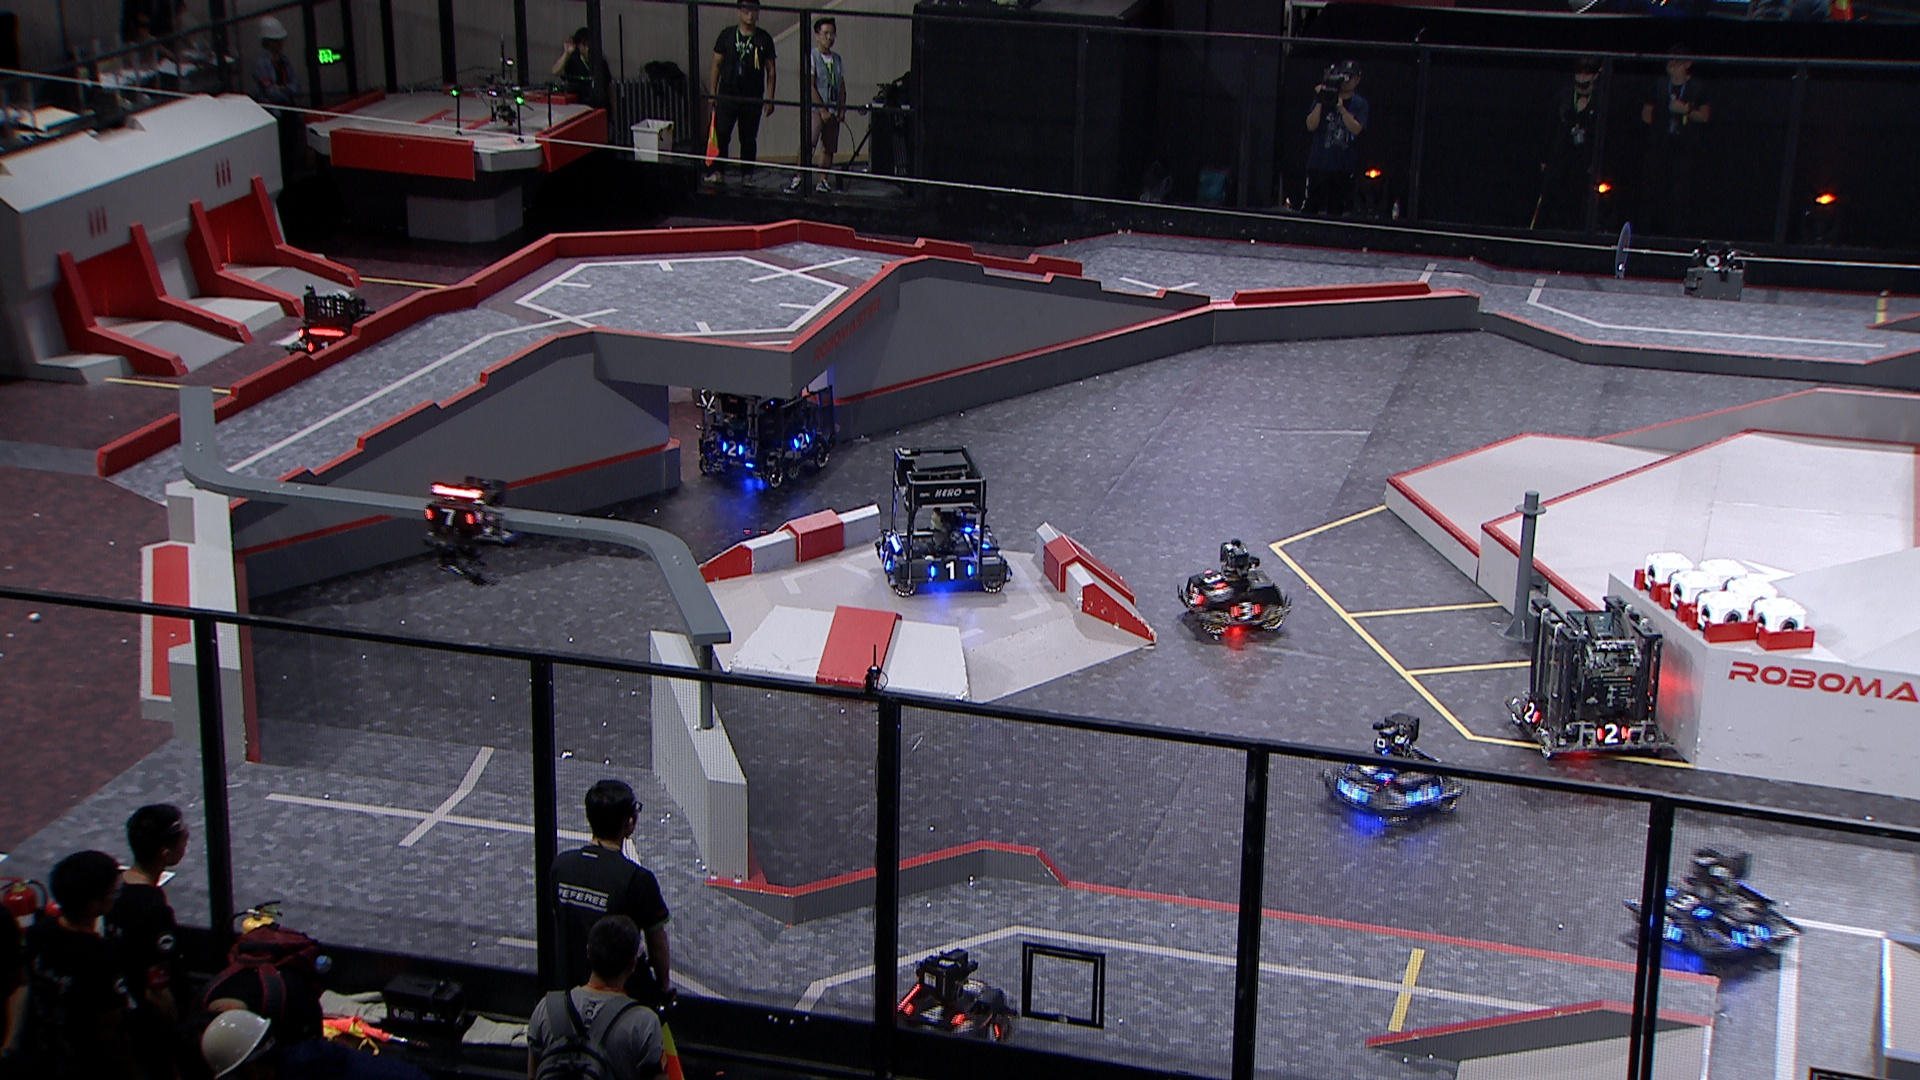armor: (902, 997, 961, 1026), (425, 505, 476, 527), (1408, 782, 1443, 808), (928, 560, 973, 579), (1352, 757, 1390, 778), (1338, 779, 1367, 807), (1593, 723, 1629, 744), (1519, 698, 1542, 723), (1232, 600, 1261, 618), (1654, 915, 1677, 938), (719, 438, 745, 458), (1185, 584, 1205, 607), (984, 1017, 1000, 1043), (877, 543, 893, 570), (1204, 567, 1221, 589), (306, 338, 330, 353), (793, 431, 811, 450)
car: (1501, 585, 1671, 764), (1627, 835, 1803, 971), (869, 442, 1011, 599), (690, 357, 836, 491), (1317, 711, 1468, 831), (885, 944, 1015, 1060), (1176, 541, 1294, 641), (282, 284, 381, 381)
watcher: (419, 475, 524, 588)
